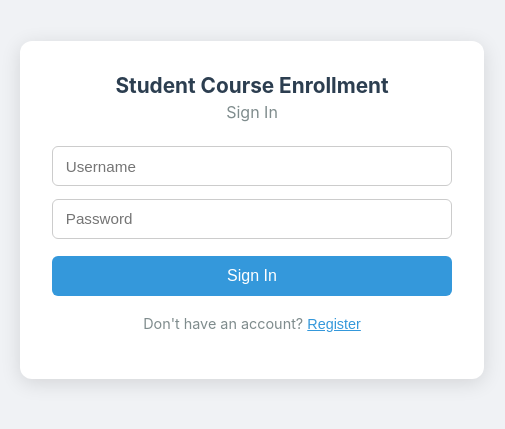
Scenario: Login component › shows success message after registration
Click the button "Register": (334, 324) top-left (307, 316), bottom-right (361, 332)
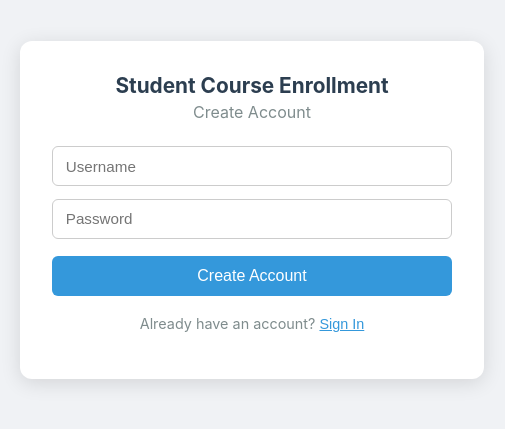
In the field with placeholder "Username": (252, 166) top-left (52, 146), bottom-right (452, 186), type "bob"
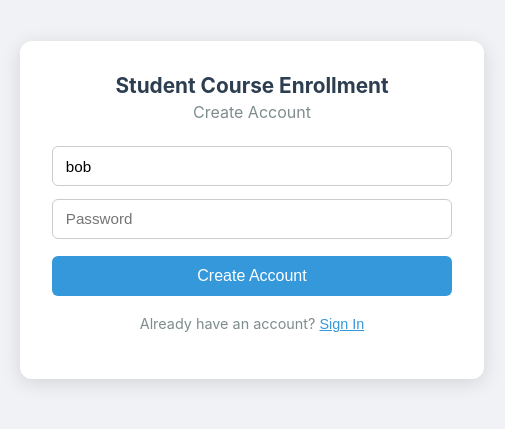
In the password field with placeholder "Password": (252, 219) top-left (52, 199), bottom-right (452, 239), type "secret123"
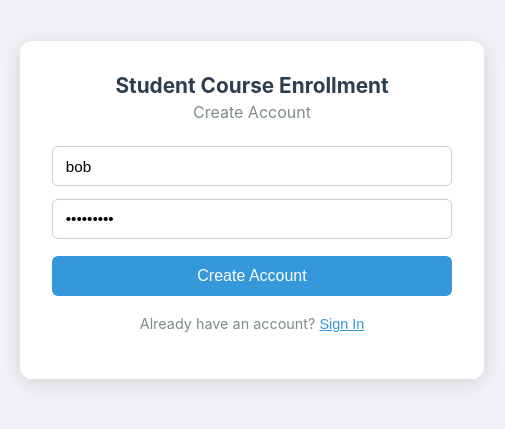
Click the button "Create Account": (252, 276) top-left (52, 256), bottom-right (452, 296)
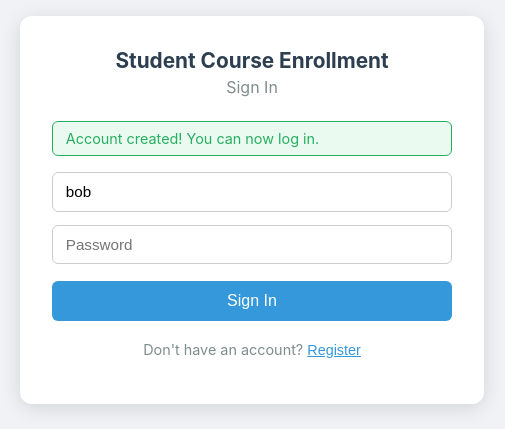
Expected: the text "Account created! You can now log in." is shown, top-left (52, 121), bottom-right (452, 156)
